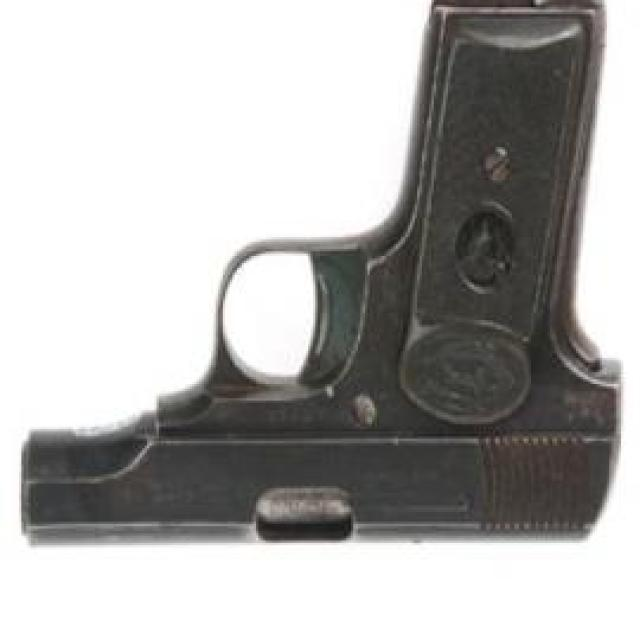pistol: (19, 0, 628, 548)
